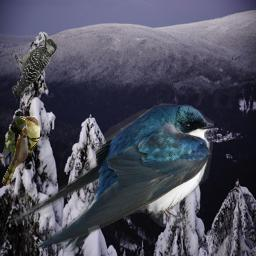Cuckoo: (2, 116, 40, 186)
Swallow: (9, 103, 214, 252)
Woodpecker: (12, 30, 57, 103)
